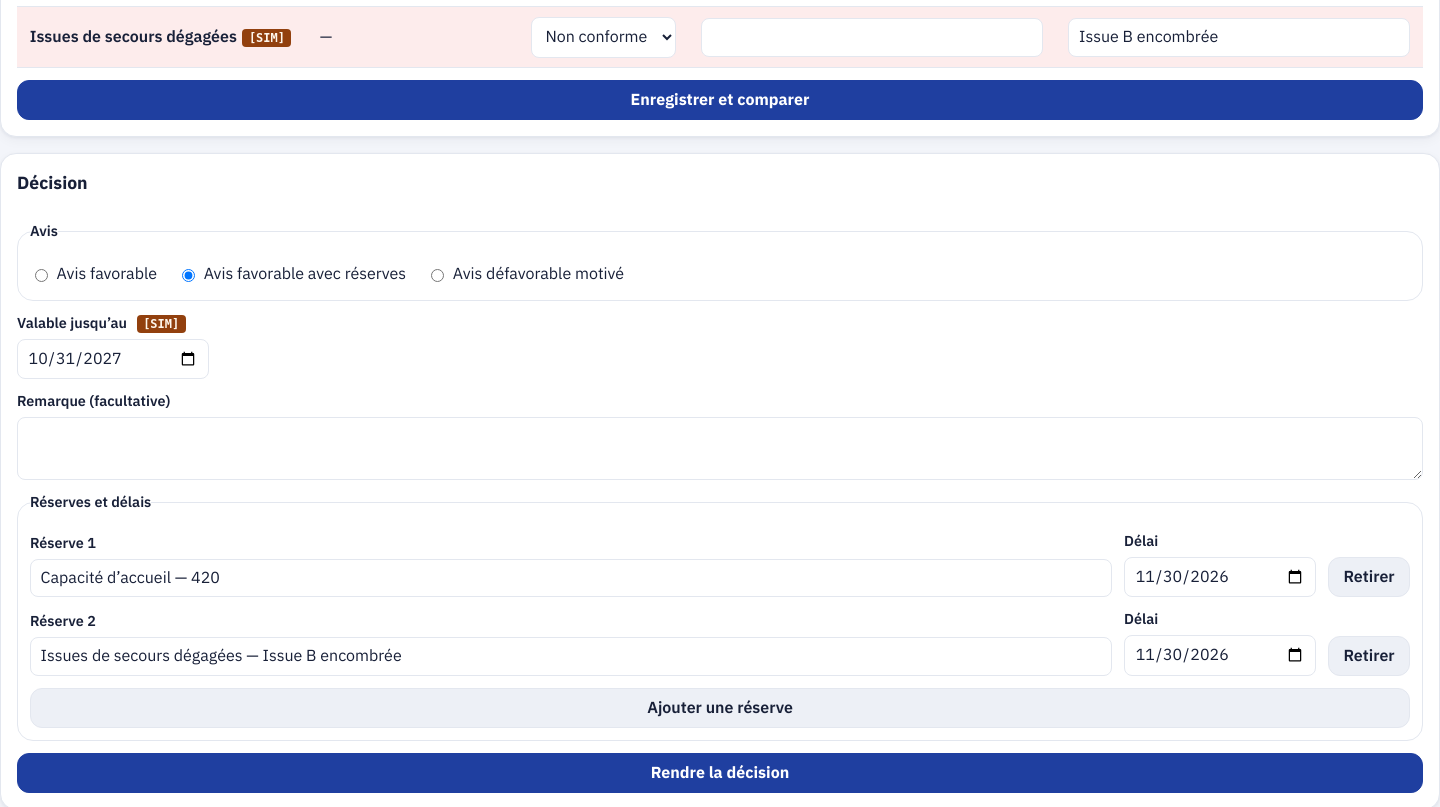
it: VisitPage › shows the comparison and decides with reservations proposed from the non-conformities
(page scrolled)
Expected: the radio button labelled "Avis favorable avec réserves" is checked, [182, 269, 195, 282]
Expected: the field labelled "Réserve 1" holds "Capacité d’accueil — 420", [30, 558, 1112, 597]
What coordinates should you click on to do the following:
click the button "Rendre la décision"
I would click on:
 (720, 773)
Its box is [17, 753, 1423, 793].
(page scrolled)
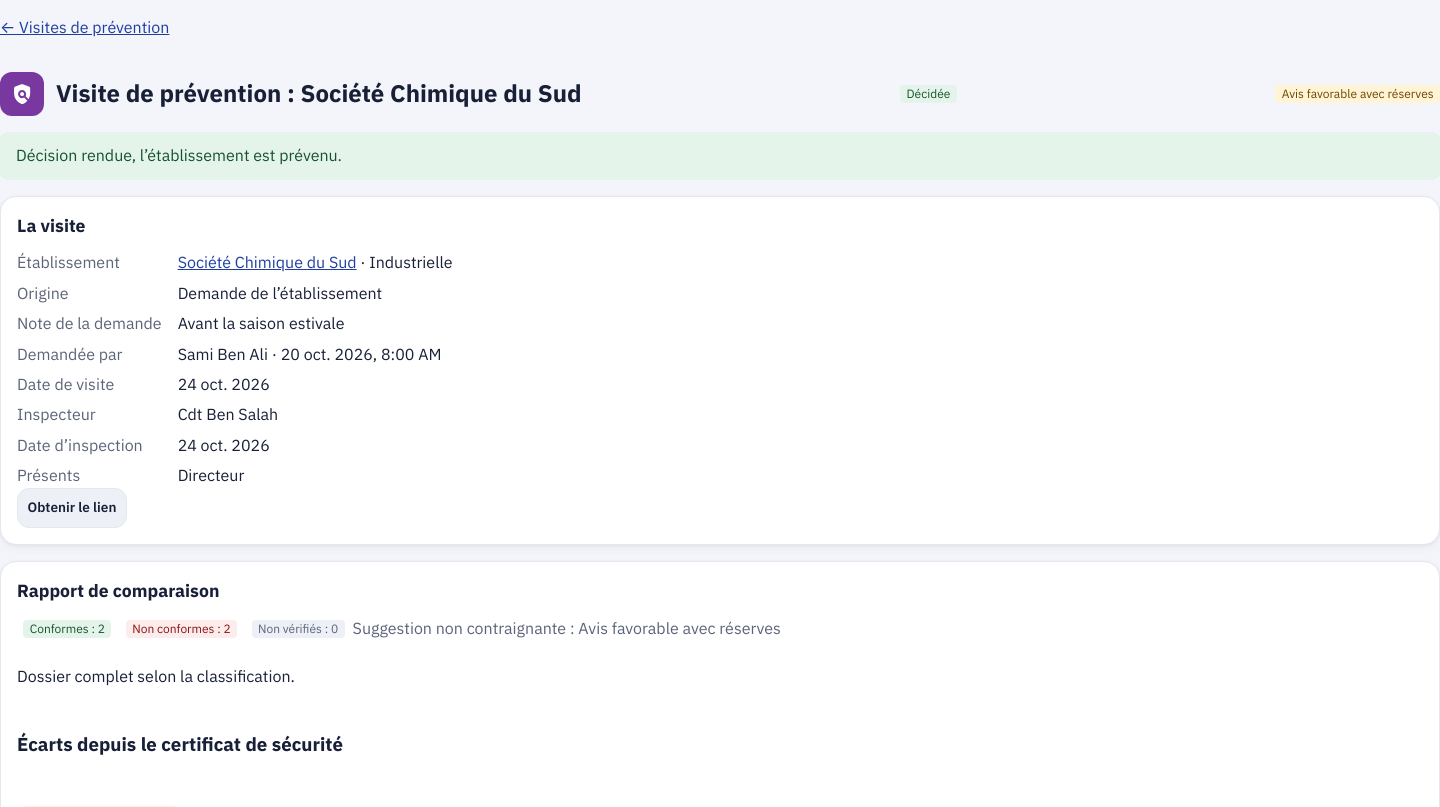
Now the text "Décision rendue, l’établissement est prévenu." is shown, box [0, 132, 1439, 180]
